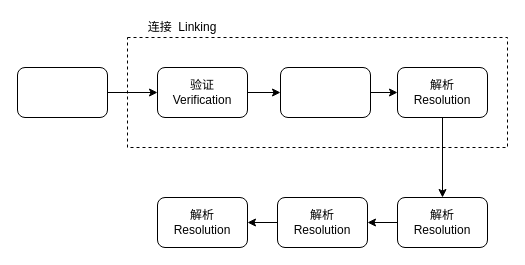
Some shapes in this 525 by 265 pixel diagram are drawn without their labels. Here are the shapes that lost their labels. From the top down, the centre of each, then its label:
(x=62, y=92): 加载 Loading
(x=325, y=92): 准备 Preparation
